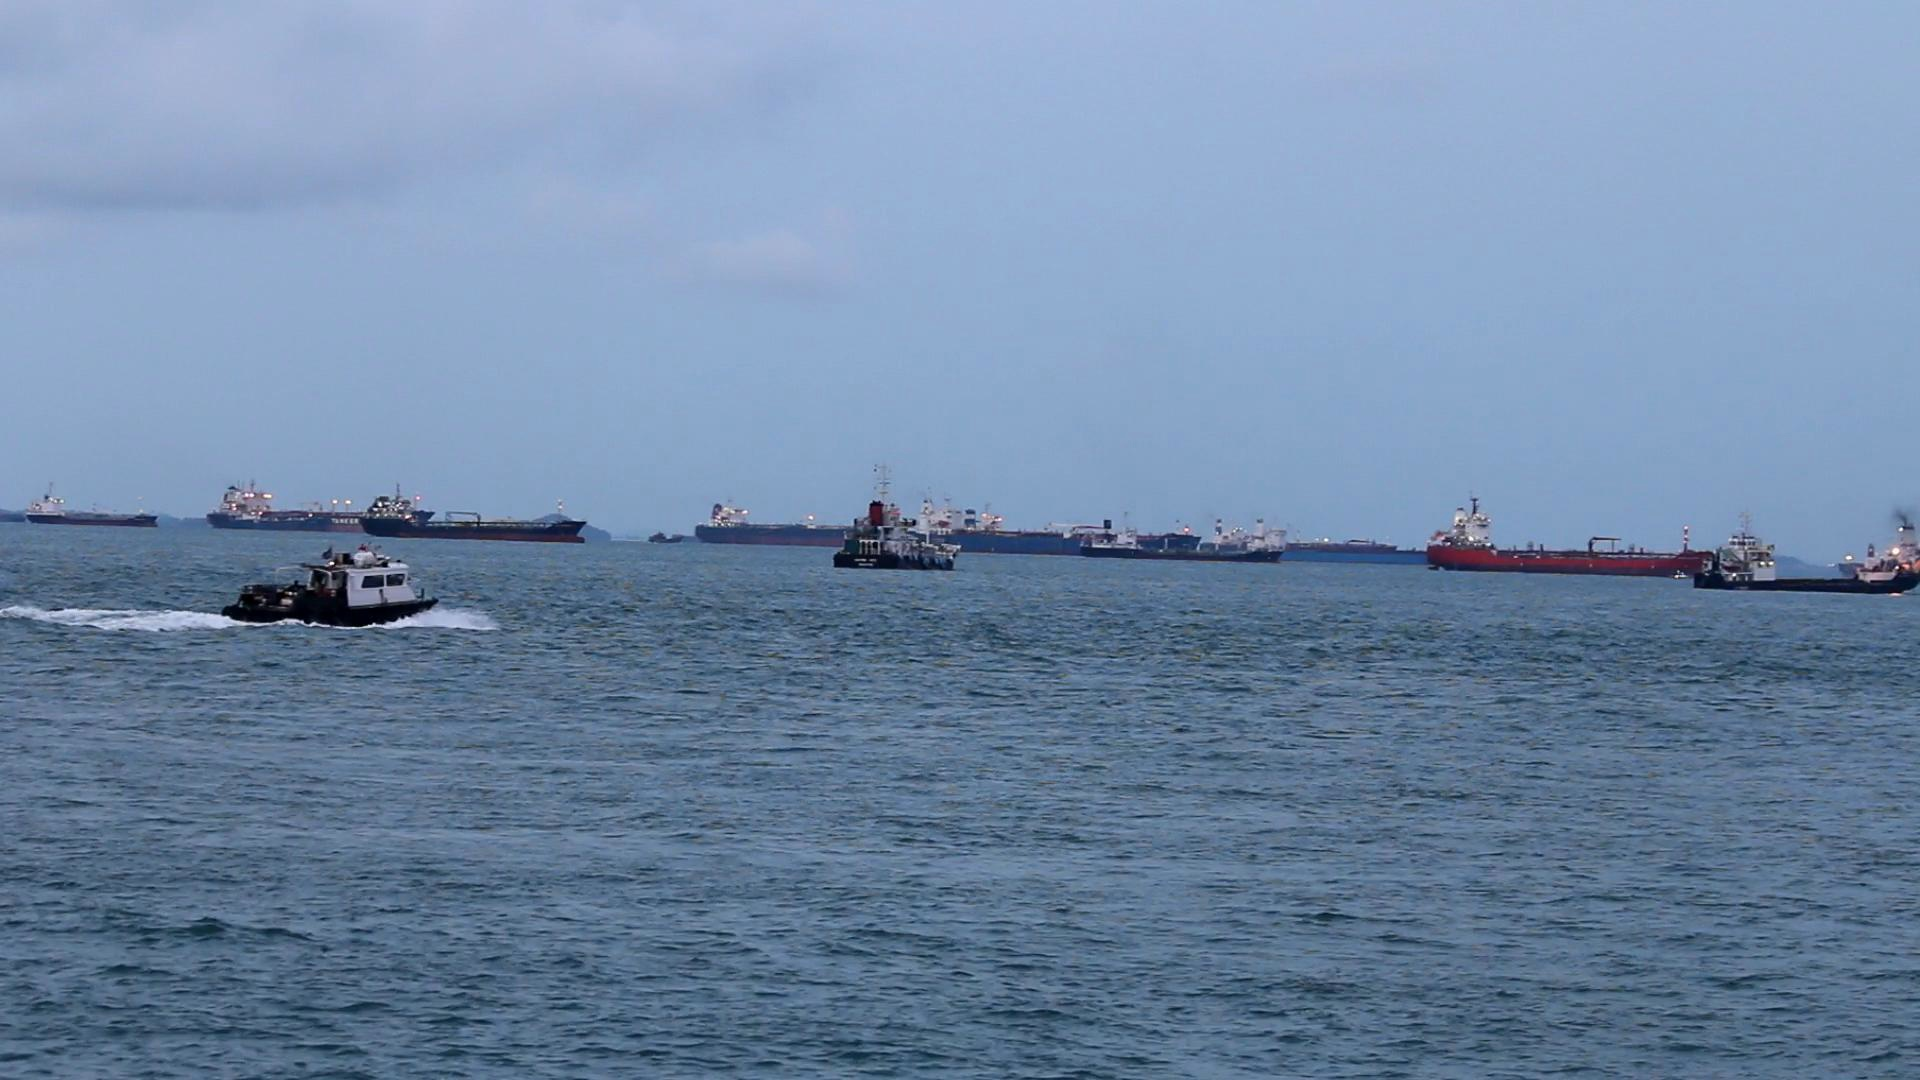Container Ship: (1416, 487, 1724, 572), (1689, 516, 1913, 595), (898, 485, 1137, 556), (359, 484, 595, 546), (1080, 504, 1294, 567), (1224, 504, 1440, 566), (684, 485, 891, 541), (829, 501, 969, 574), (1832, 488, 1920, 575), (210, 481, 336, 533), (256, 495, 393, 530), (621, 522, 675, 547)
